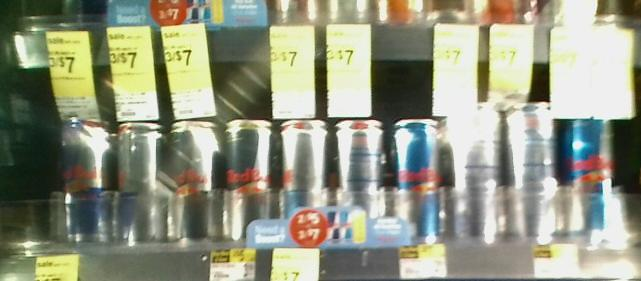bottle: (391, 110, 448, 254), (565, 97, 618, 251), (278, 109, 335, 248), (223, 104, 275, 254), (450, 97, 503, 244), (508, 99, 560, 245), (336, 111, 389, 253), (58, 116, 112, 248), (167, 110, 219, 243), (117, 111, 162, 243)
